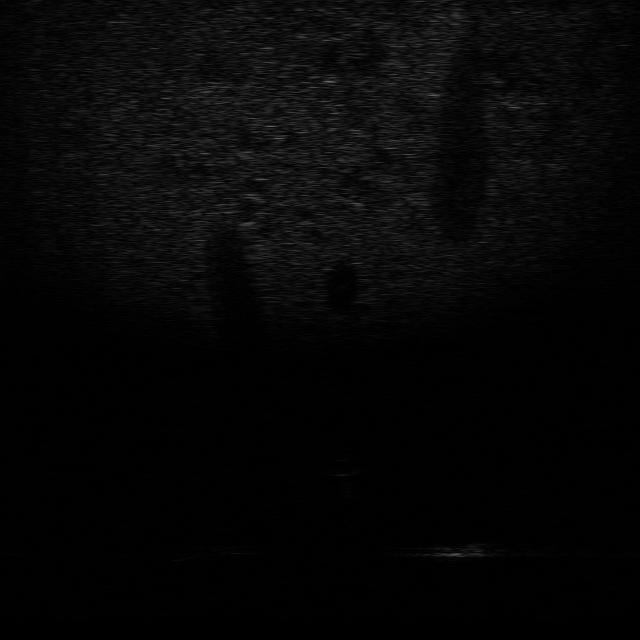ball: (321, 454, 365, 480)
metal bucket: (408, 533, 507, 562)
tyre: (191, 523, 264, 556)
